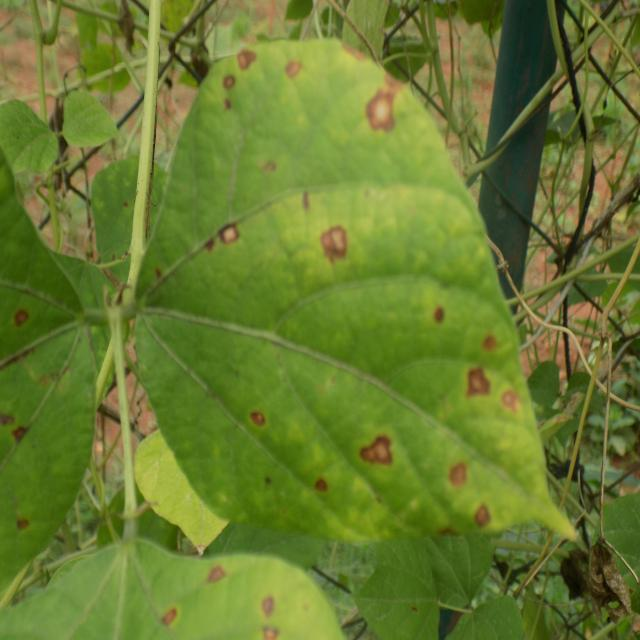Dolicos bean_cercospora leaf spot: (137, 42, 579, 552)
